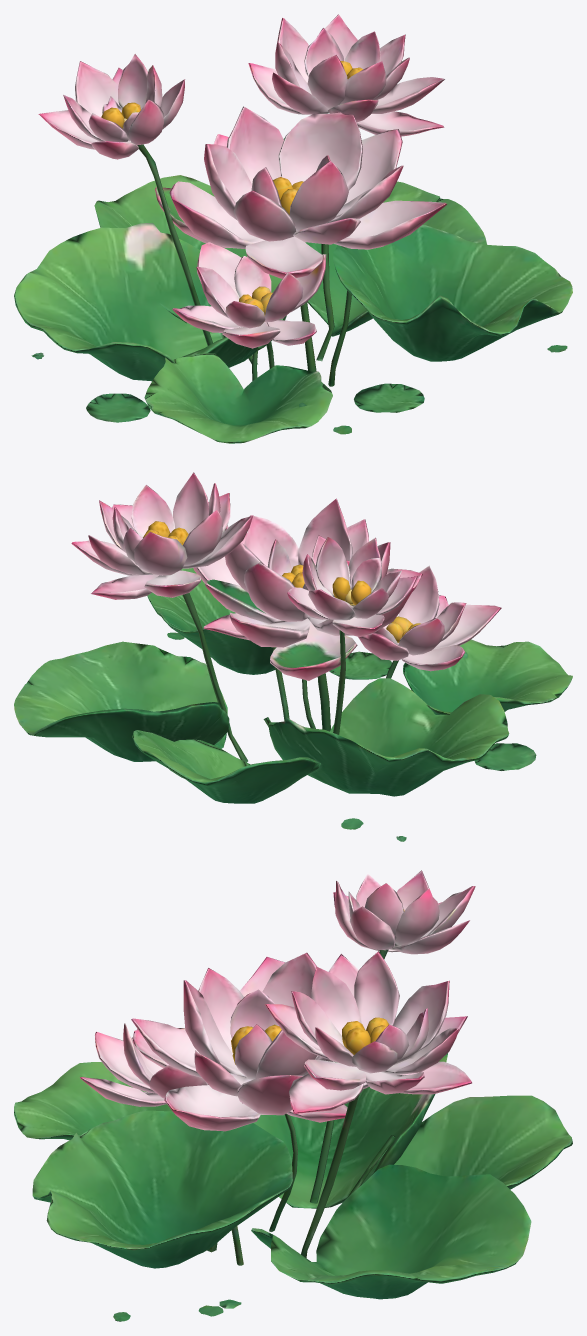
Rendered from serenity.glb.
3 renders of one model, top to bottom at view 1: azimuth 30°, elevation 25°; view 2: azimuth 150°, elevation 25°; view 3: azimuth 270°, elevation 25°, orthographic. The views are drawn at different scales.
Bounding box in the file's own units: 1 × 0.6386 × 1.
Materials: 1 (1 with a texture image).
